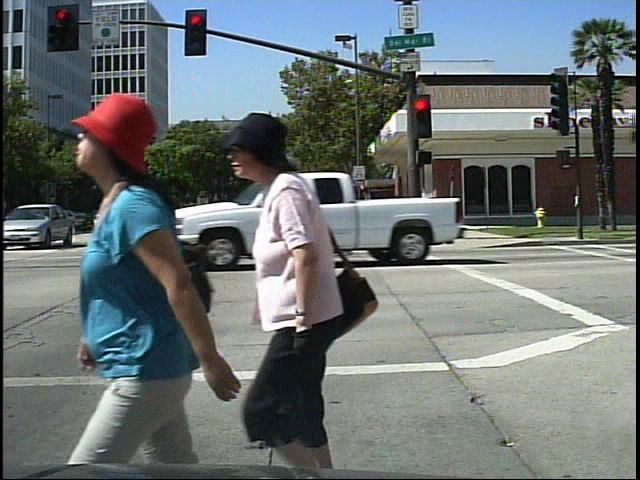person: (230, 112, 413, 475), (82, 72, 224, 468)
